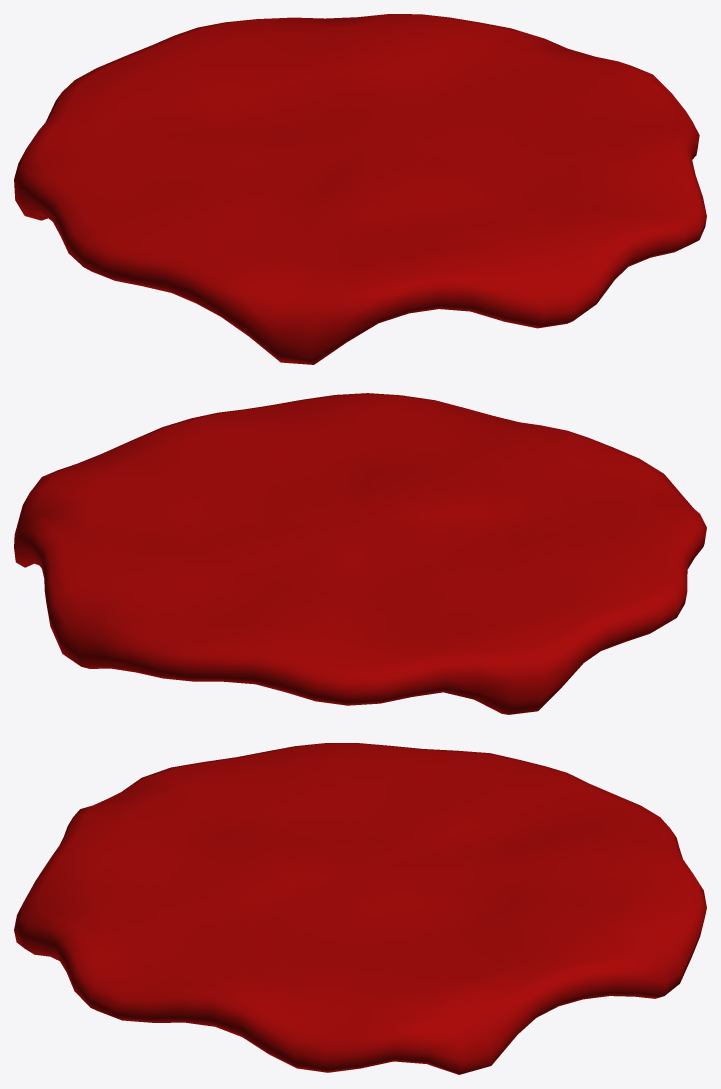
Rendered from Sauce_Visual.fbx.
3 views of the same model, one above another, from view 1: azimuth 30°, elevation 25°; view 2: azimuth 150°, elevation 25°; view 3: azimuth 270°, elevation 25° (orthographic).
Visible parts, largest first — view 1: Sauce; view 2: Sauce; view 3: Sauce.
Part boxes in pixels (box(x1,y1,x2,y2)): Sauce: box(14, 14, 706, 364); Sauce: box(14, 393, 706, 714); Sauce: box(14, 743, 706, 1074).
Bounding box in the file's own units: 11.8 × 1.52 × 11.71.
1 material, 1 textured.
